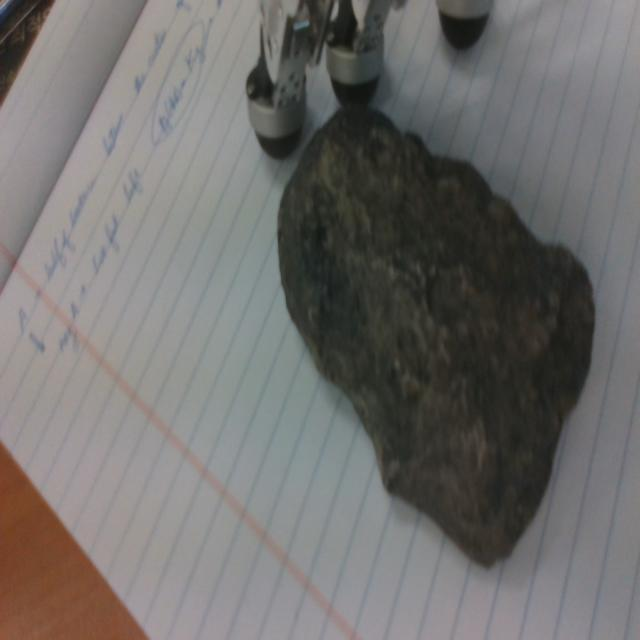stone: (278, 101, 594, 565)
